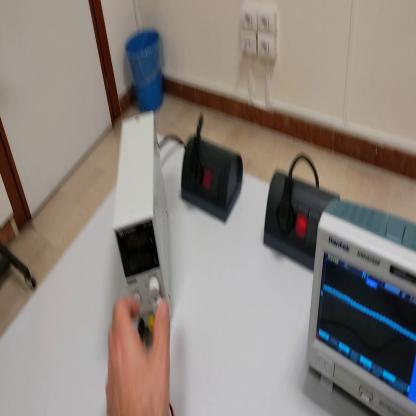hand: (107, 293, 172, 415)
oscilloscope: (306, 194, 416, 415)
power supply: (110, 106, 169, 337)
socket: (262, 164, 339, 270), (179, 136, 244, 224)
